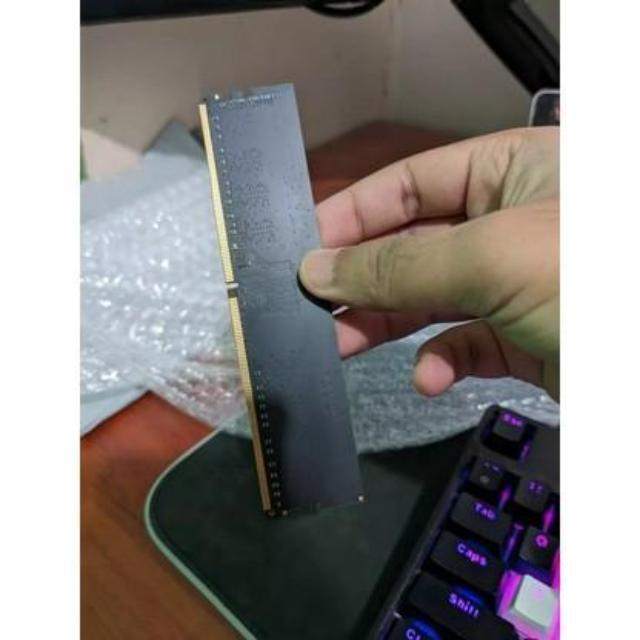RAM: (192, 71, 368, 524)
